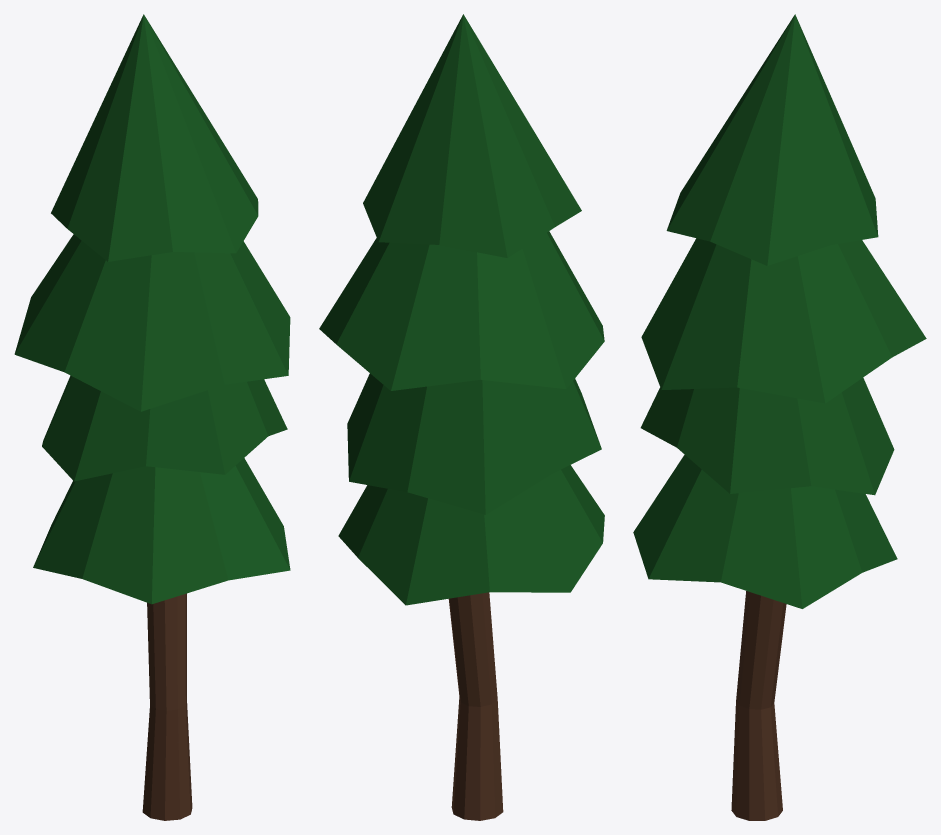
The model's file is pine02__mesh_LOD.fbx.
3 views of the same model, side by side, from view 1: azimuth 30°, elevation 25°; view 2: azimuth 150°, elevation 25°; view 3: azimuth 270°, elevation 25° (orthographic). The views are drawn at different scales.
Parts seen in each view (by area): view 1: pine02__mesh_LOD0; view 2: pine02__mesh_LOD0; view 3: pine02__mesh_LOD0.
Boxes of the visible parts, <box> form: pine02__mesh_LOD0: <box>14,14,290,820</box>; pine02__mesh_LOD0: <box>319,14,604,820</box>; pine02__mesh_LOD0: <box>633,14,926,820</box>.
Size of what is drawn, in the model's own units: 355 by 1112 by 372.
Materials: 1 (1 with a texture image).
